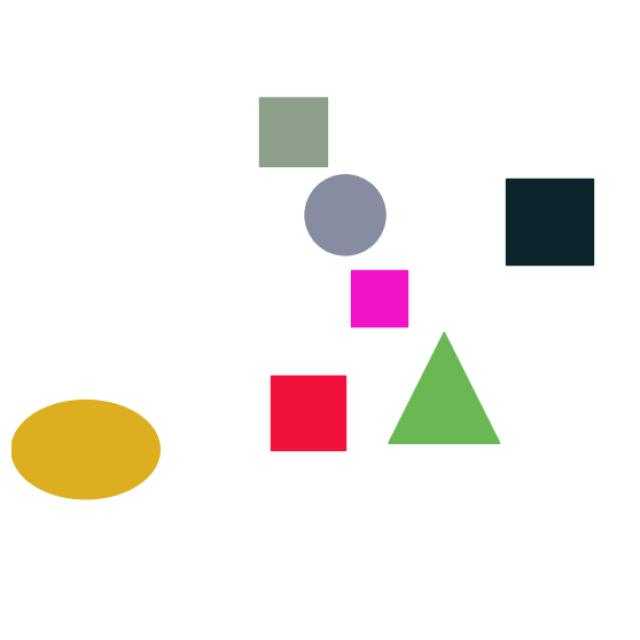Circle: (298, 166, 412, 265)
Oval: (12, 388, 176, 509)
Triangle: (372, 318, 514, 457)
square: (483, 166, 607, 278), (256, 356, 356, 469), (242, 84, 344, 174), (346, 262, 417, 336)
